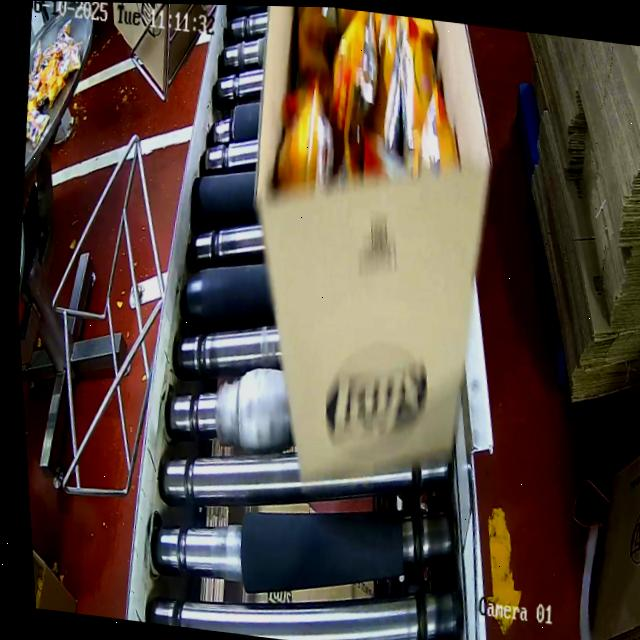FRENCH_CHEESE: (261, 6, 476, 218)
